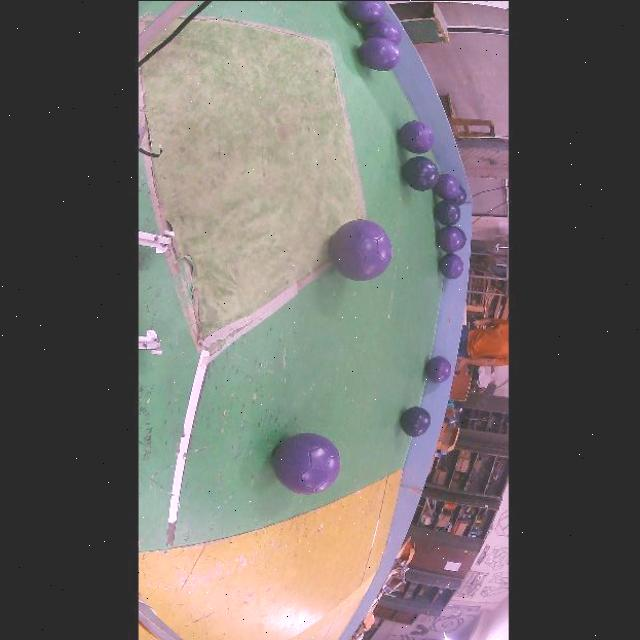B: (403, 155, 439, 190), (402, 406, 431, 435), (435, 199, 462, 226)
P: (274, 432, 341, 493), (331, 218, 393, 280), (358, 37, 402, 70), (399, 119, 435, 153), (364, 20, 403, 45), (346, 0, 386, 23), (434, 173, 461, 199), (426, 356, 452, 383), (440, 253, 465, 279), (438, 226, 463, 252)
